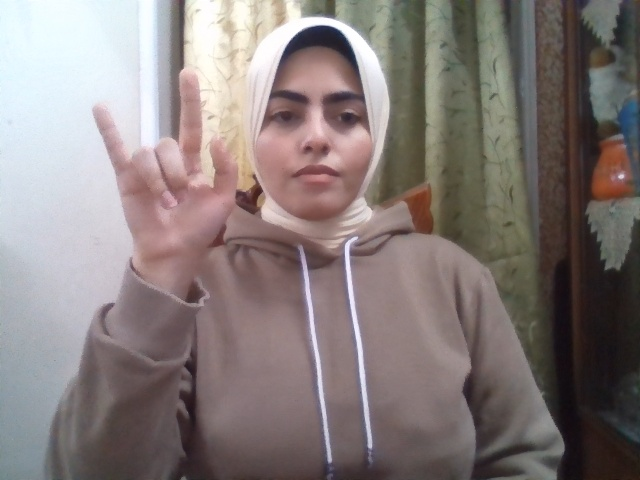iloveyou: (93, 68, 238, 262)
